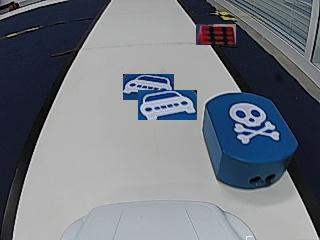danger: (230, 103, 278, 144)
